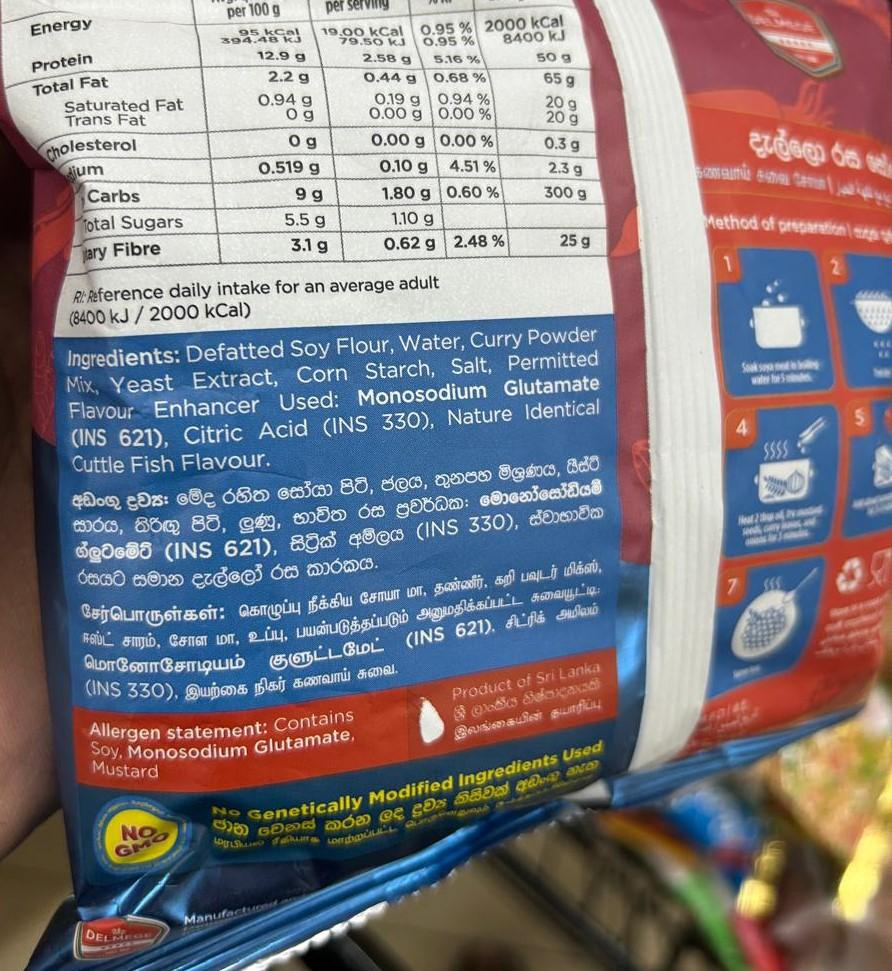ingredients: (47, 318, 614, 480)
